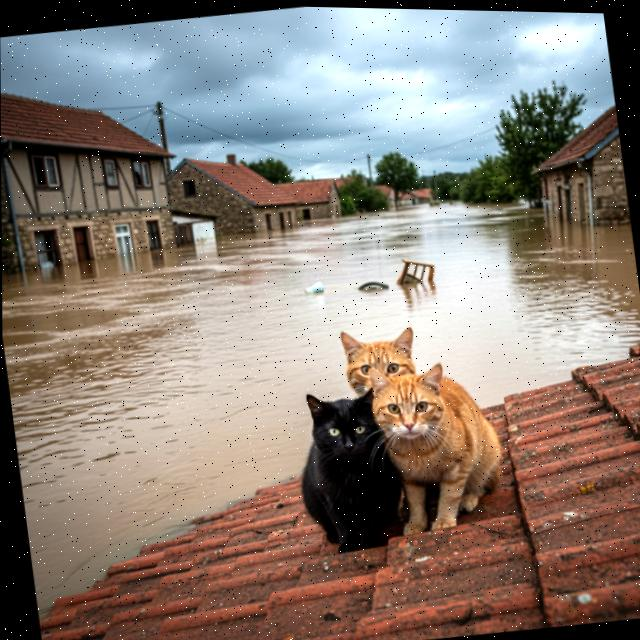cat: (279, 372, 427, 570), (362, 351, 513, 542), (332, 321, 427, 409)
